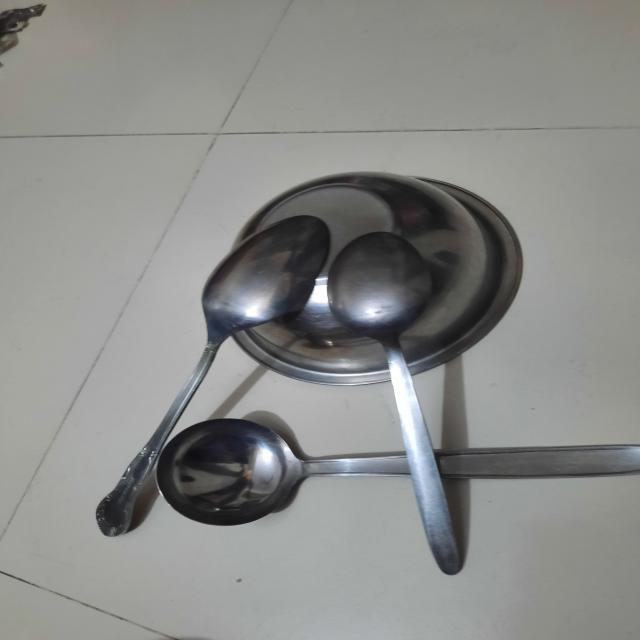Metal: (85, 157, 568, 603)
